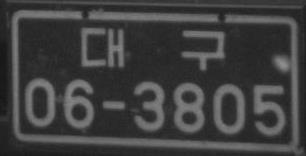0: (212, 81, 246, 137), (23, 76, 55, 128)
3: (133, 79, 166, 132)
5: (253, 83, 286, 135)
6: (62, 79, 96, 129)
8: (172, 80, 205, 134)
대구_D: (79, 26, 225, 71)
